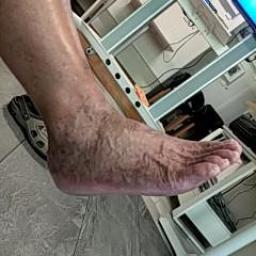Lateral View -Right Foot-: (20, 44, 250, 222)
